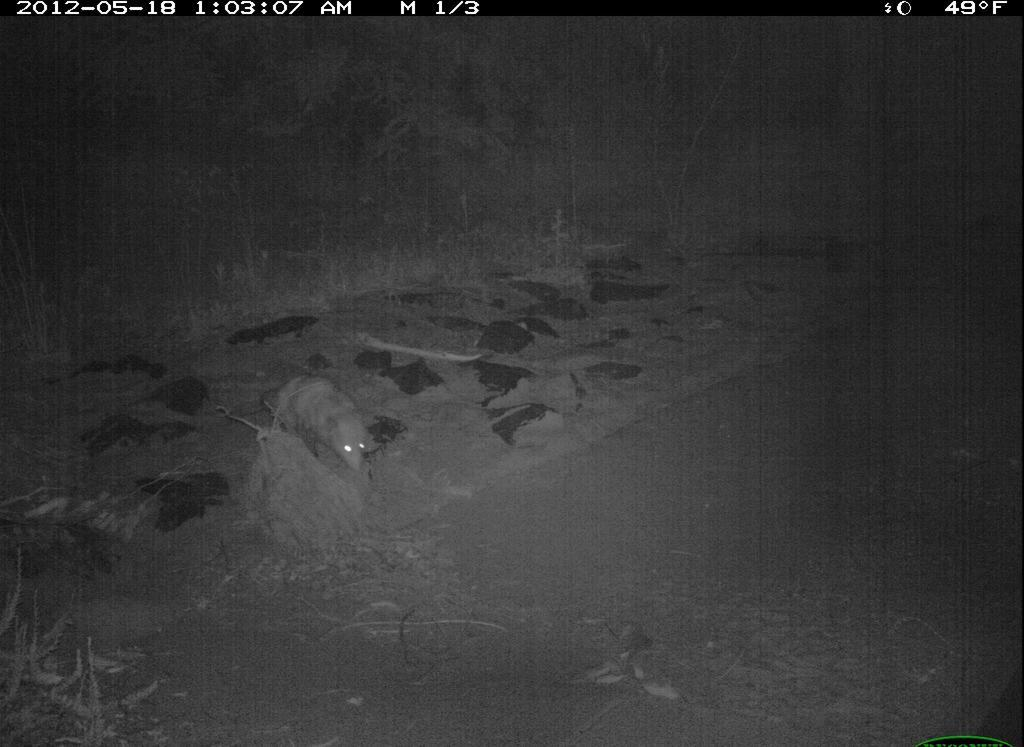opossum: (260, 370, 377, 486)
